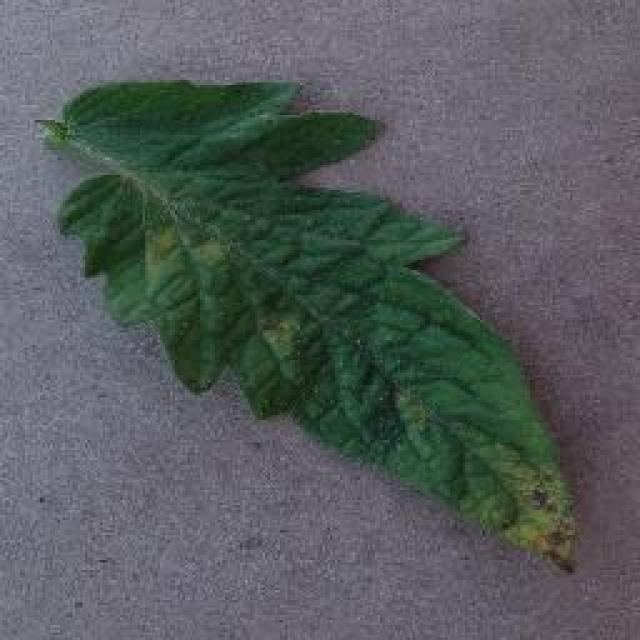Tomato___Leaf_Mold: (40, 80, 577, 578)
